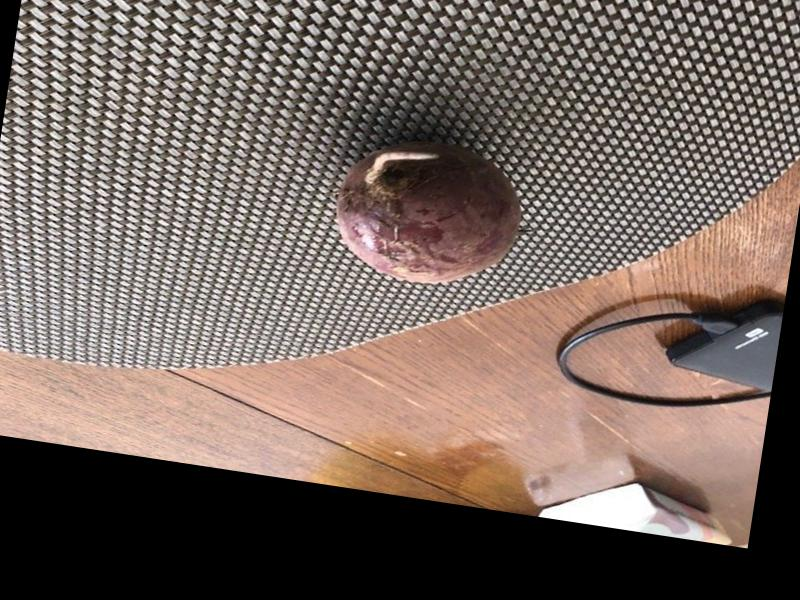Beet: (327, 130, 530, 295)
